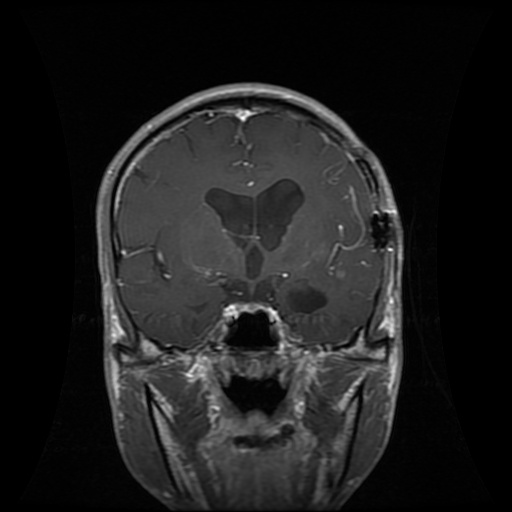glioma: (288, 281, 326, 312)
